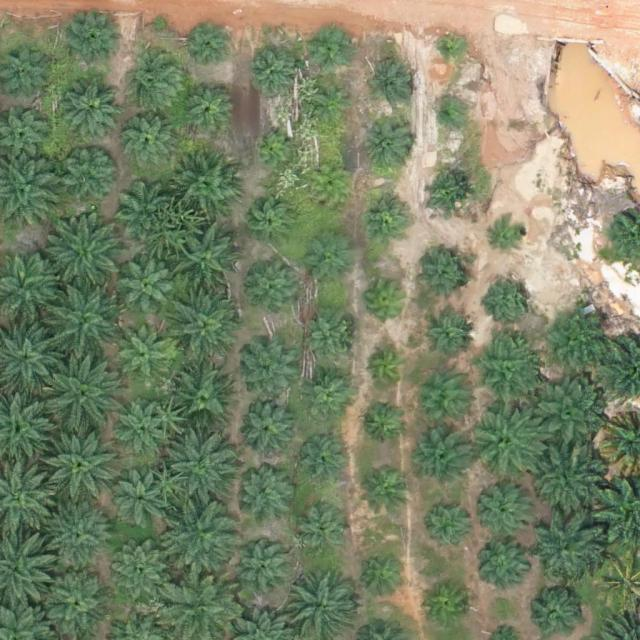Healthy: (469, 400, 547, 479), (50, 285, 128, 364), (45, 355, 123, 434), (44, 426, 122, 505), (531, 441, 609, 520), (529, 507, 607, 586), (48, 219, 126, 297), (526, 378, 604, 456), (473, 337, 543, 408), (167, 432, 237, 503), (162, 504, 233, 574), (45, 506, 115, 577), (42, 569, 112, 640), (542, 305, 612, 376), (172, 295, 242, 365), (477, 478, 540, 541), (177, 232, 240, 295), (410, 372, 472, 435), (172, 364, 234, 427), (125, 52, 187, 115), (59, 73, 122, 135), (174, 155, 236, 217), (107, 539, 169, 601), (415, 429, 470, 484), (476, 537, 531, 592), (300, 314, 355, 369), (301, 371, 356, 426), (295, 435, 350, 490), (299, 507, 354, 562), (243, 344, 298, 399), (241, 400, 296, 455), (239, 543, 294, 598), (116, 477, 171, 532), (113, 399, 168, 454), (122, 261, 177, 316), (63, 146, 118, 201), (182, 81, 237, 136), (123, 115, 178, 170), (68, 11, 123, 66), (246, 262, 300, 318), (237, 469, 291, 524), (117, 328, 171, 383), (116, 182, 170, 237), (248, 46, 302, 101), (367, 120, 414, 167)
Small: (419, 251, 474, 306), (421, 311, 475, 366), (367, 59, 414, 107), (424, 172, 471, 220), (363, 469, 410, 517), (487, 274, 534, 322), (247, 199, 294, 246), (307, 239, 354, 286), (186, 25, 233, 72), (362, 194, 409, 241), (366, 277, 413, 324), (361, 554, 408, 601), (424, 579, 471, 626), (360, 400, 407, 447), (429, 504, 476, 551), (364, 345, 411, 392), (312, 28, 352, 67), (491, 217, 530, 257), (253, 129, 292, 168), (316, 88, 355, 127), (436, 35, 467, 66), (433, 102, 464, 133)
Yellow: (310, 167, 349, 206)
